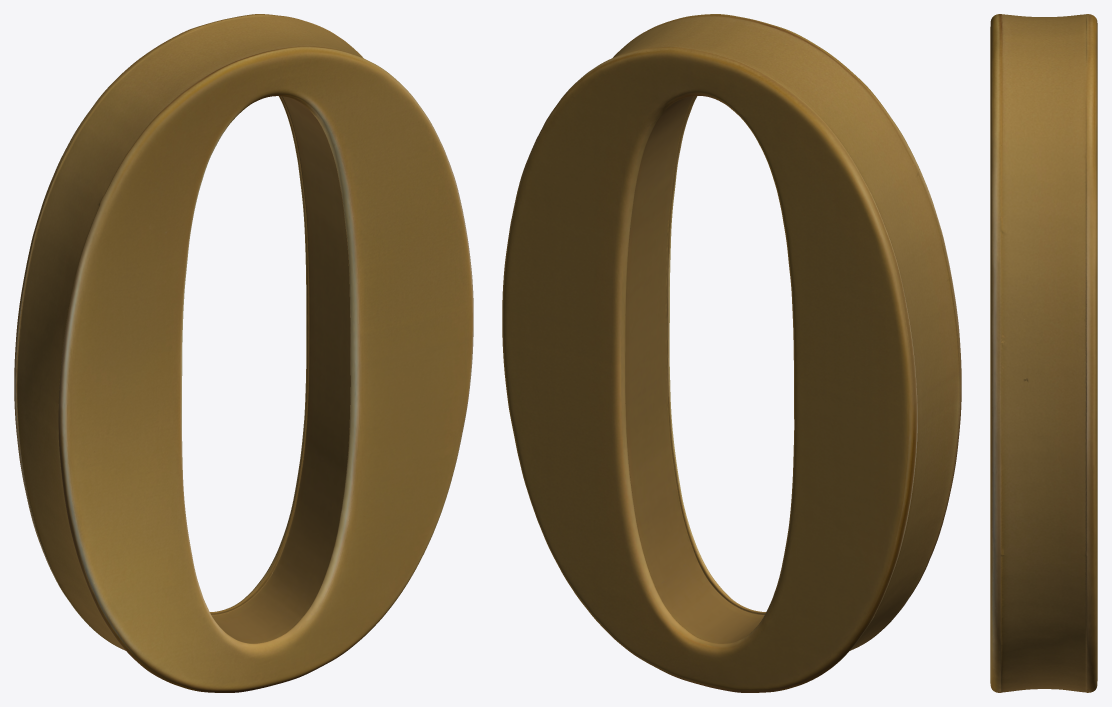
Rendered from O_LETTER.glb.
3 renders of one model, left to right at view 1: azimuth 30°, elevation 25°; view 2: azimuth 150°, elevation 25°; view 3: azimuth 270°, elevation 25°, orthographic.
Parts seen in each view (by area): view 1: tripo_node_b014ee47-ecbf-403a-9f54-e62a1906c248; view 2: tripo_node_b014ee47-ecbf-403a-9f54-e62a1906c248; view 3: tripo_node_b014ee47-ecbf-403a-9f54-e62a1906c248.
Part boxes in pixels (box(x1,y1,x2,y2)): tripo_node_b014ee47-ecbf-403a-9f54-e62a1906c248: box(14, 14, 473, 692); tripo_node_b014ee47-ecbf-403a-9f54-e62a1906c248: box(502, 14, 961, 692); tripo_node_b014ee47-ecbf-403a-9f54-e62a1906c248: box(990, 14, 1097, 692).
Size of the model in its own units: 0.6835 by 1 by 0.1526.
1 material, 1 textured.
